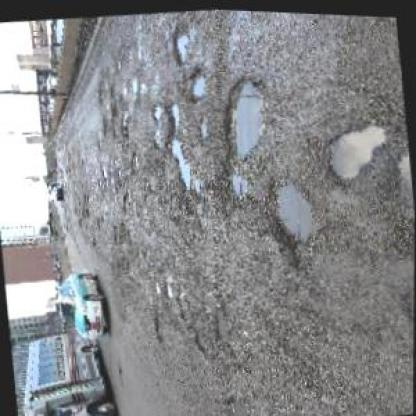pothole: (214, 69, 271, 161), (319, 114, 391, 180), (263, 171, 319, 244), (165, 132, 193, 188), (166, 26, 192, 66), (182, 64, 208, 101), (395, 274, 413, 324), (221, 391, 255, 415), (209, 302, 228, 341), (165, 97, 183, 130), (148, 100, 162, 119)
